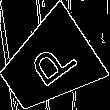P_SW: (19, 35, 78, 94)
